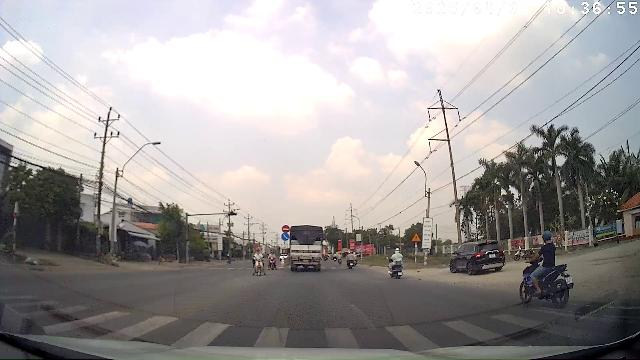102-cam-di-nguoc-chieu: (281, 225, 290, 233)
302a-huong-phai-di-vong-chuong-ngai-vat-1: (281, 233, 289, 241)
